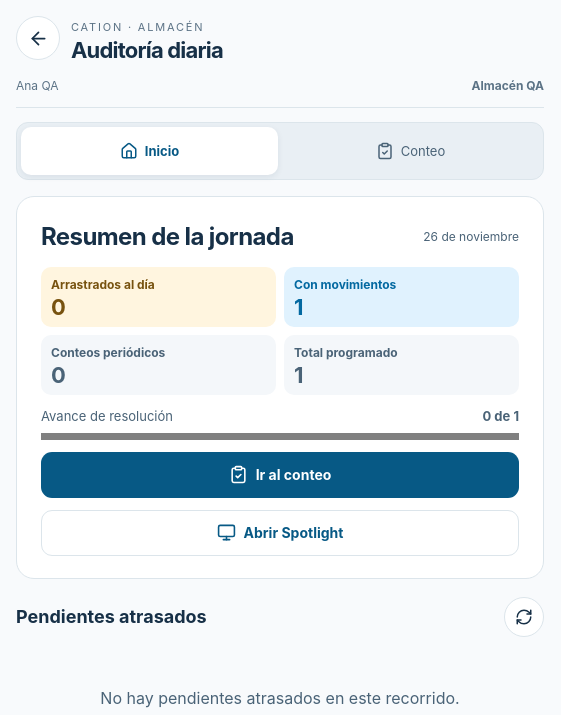
Test: abre la jornada, exige una cantidad explícita y recién entonces muestra el esperado
Click the button "Ir al conteo" at (280, 475), box [41,452,519,498]
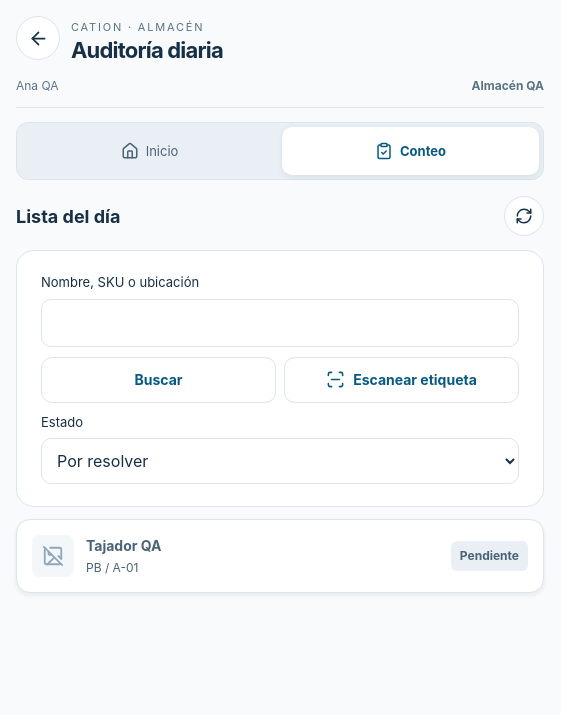
Click the button "Tajador QA PB / A-01 Pendiente" at (53, 556), box [16,519,544,593]
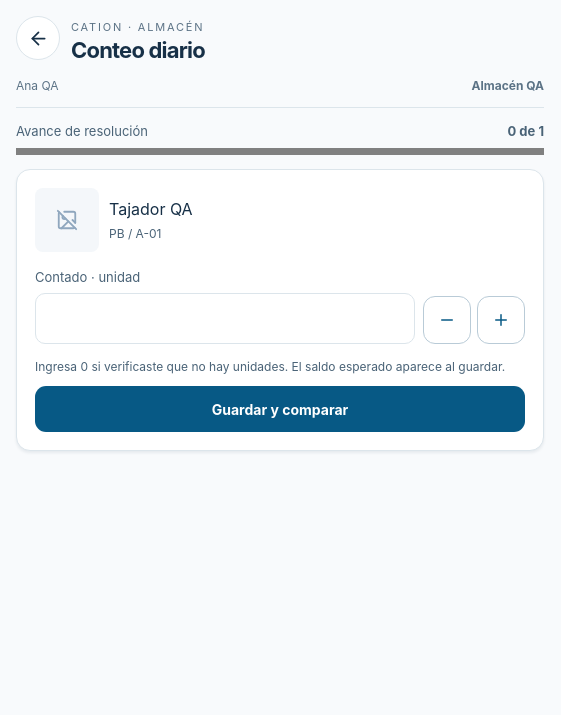
Check: the text "Esperado" is not shown
Submit the form with class "auditoria-captura", box [35,264,525,432]
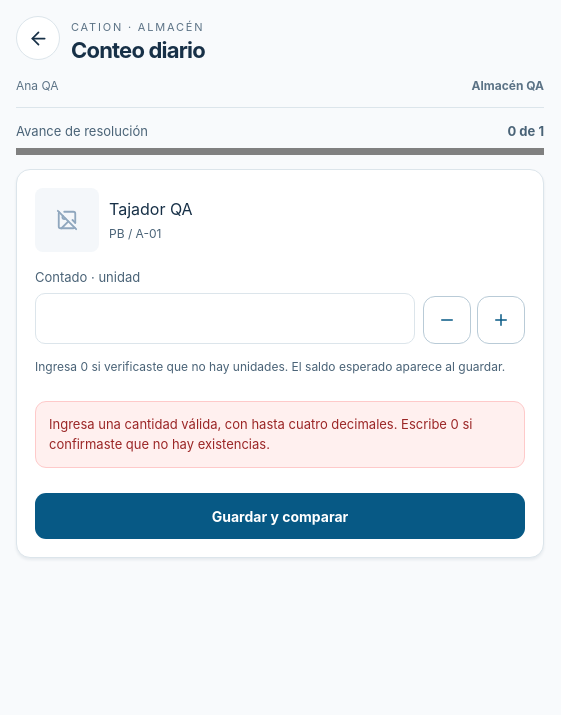
Check: the text "Ingresa una cantidad válida" is shown, box [49,416,472,452]
Click the button named "Quitar 1 unidad" at (447, 320), box [423,296,471,344]
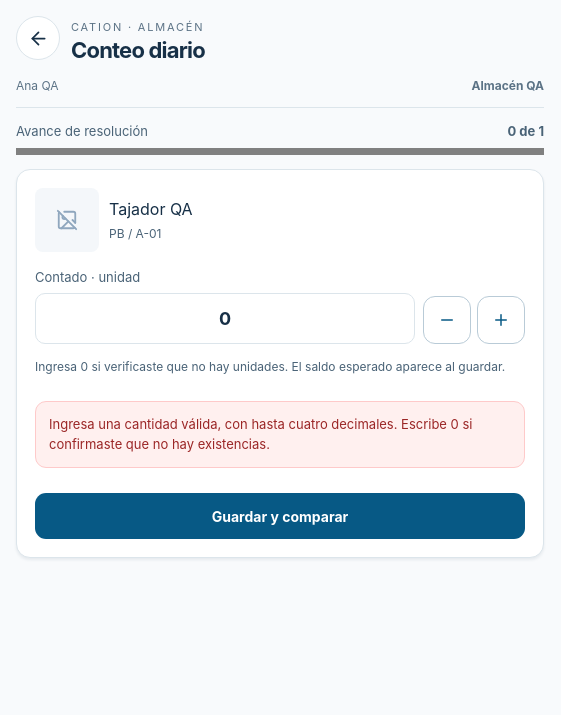
Submit the form with class "auditoria-captura", box [35,264,525,539]
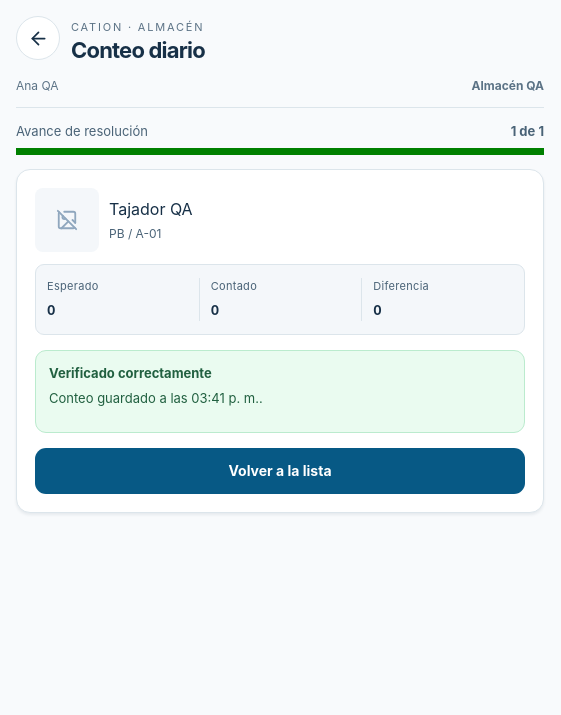
Check: the text "Esperado" is shown, box [47,279,99,293]
Check: the text "Verificado correctamente" is shown, box [49,365,212,381]
